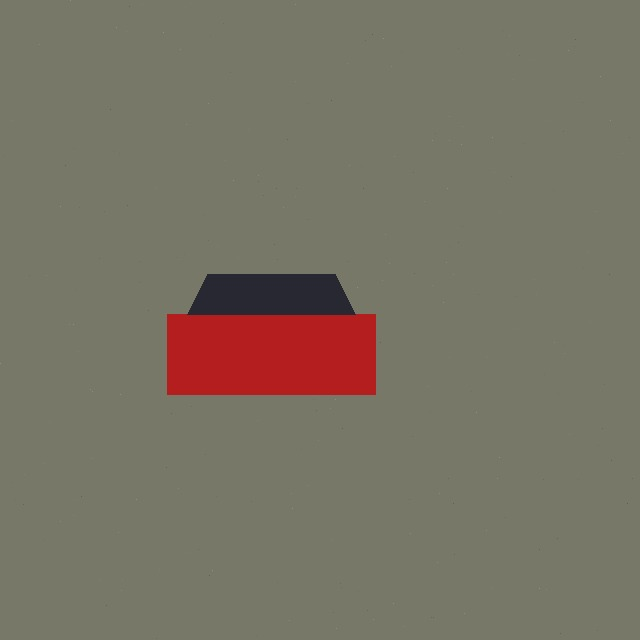vehicle: (167, 274, 375, 394)
